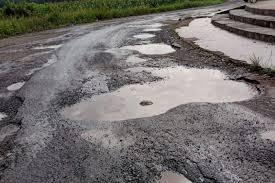Pothole: (50, 55, 270, 144), (131, 157, 219, 183), (0, 94, 28, 175), (109, 33, 181, 64), (119, 22, 161, 41), (0, 72, 34, 95)
